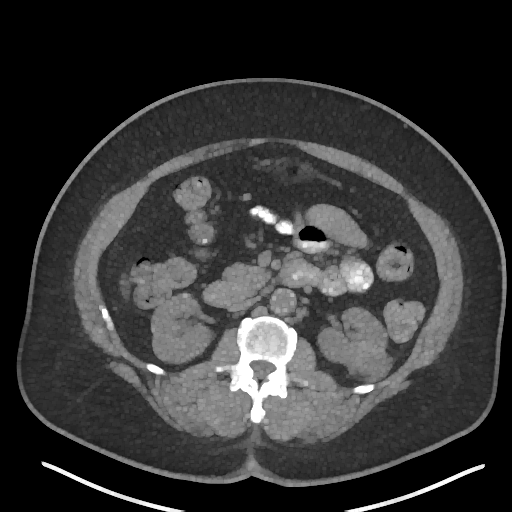Lesion: (347, 344, 396, 381)
